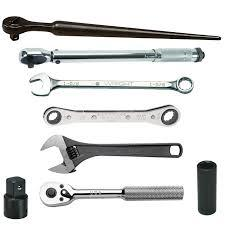wrench: (38, 133, 183, 174), (17, 44, 205, 69), (38, 180, 184, 207), (41, 102, 181, 126)
